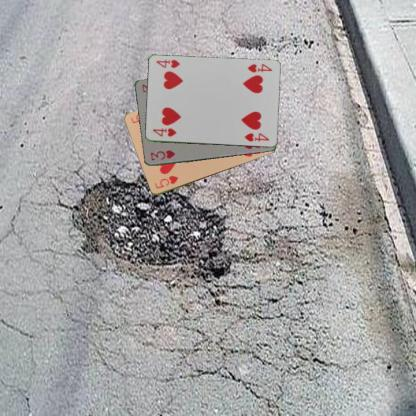3h: (148, 147, 177, 162)
4h: (244, 61, 273, 74), (150, 125, 178, 138)
5h: (152, 173, 179, 190)
